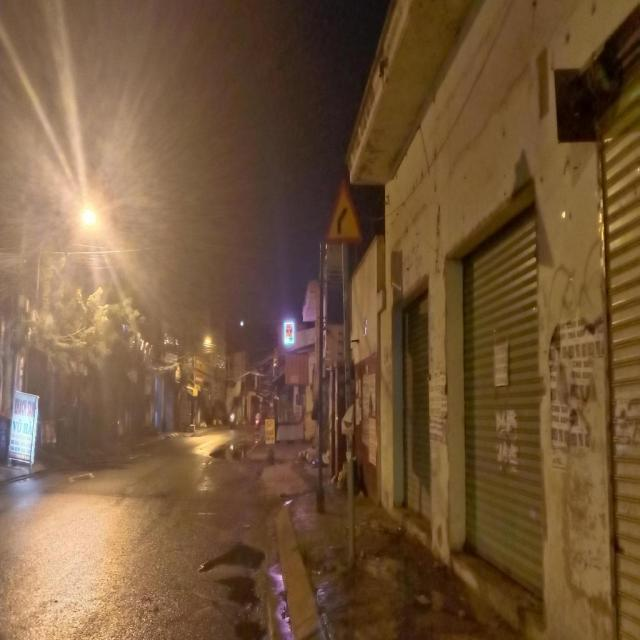cho_ngoat_nguy_hiem_ben_phai: (324, 176, 364, 243)
